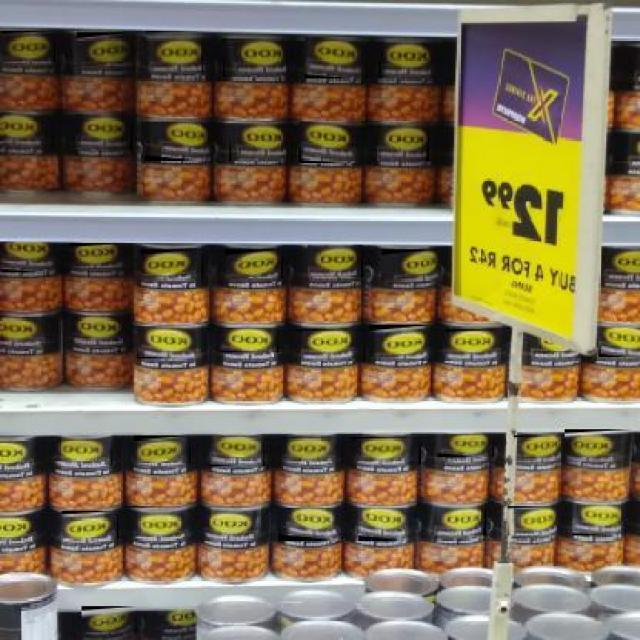Beans: (302, 37, 366, 80), (143, 122, 211, 162), (297, 122, 359, 165), (144, 31, 204, 74), (222, 39, 286, 79), (368, 325, 436, 361), (293, 329, 364, 363), (563, 429, 634, 463), (277, 508, 346, 542), (135, 326, 203, 360), (205, 506, 269, 542), (425, 501, 487, 537), (74, 114, 132, 152), (228, 123, 286, 161), (376, 122, 430, 162), (349, 437, 420, 466), (76, 32, 133, 68), (377, 42, 431, 80), (126, 506, 190, 538), (380, 249, 440, 283), (357, 508, 417, 542), (443, 329, 506, 361), (139, 249, 203, 280), (306, 246, 363, 280), (1, 113, 53, 150), (223, 249, 283, 280), (0, 30, 55, 63), (0, 243, 58, 274), (207, 437, 264, 468), (50, 439, 113, 467), (571, 506, 627, 537), (132, 436, 190, 465), (59, 511, 117, 540), (280, 437, 343, 463), (80, 606, 137, 634), (506, 506, 557, 537), (219, 328, 279, 354), (66, 315, 118, 343), (68, 243, 126, 267), (0, 317, 49, 345), (435, 436, 493, 459), (597, 329, 640, 360), (512, 435, 556, 463)
